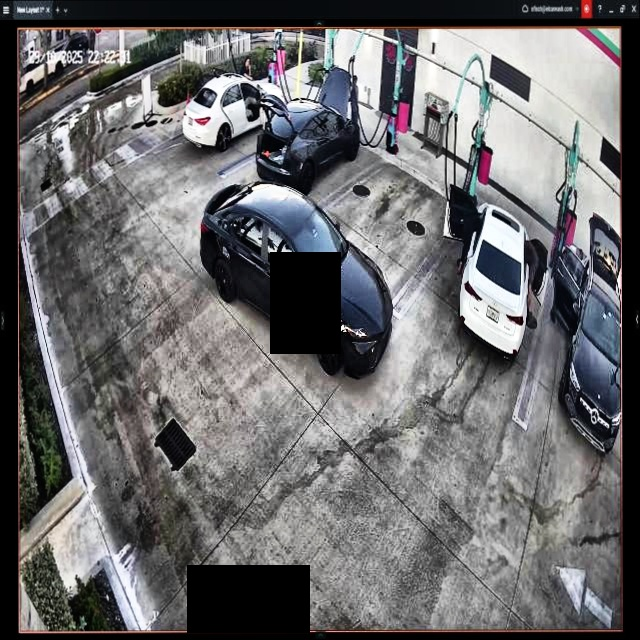Car: (200, 176, 394, 380), (440, 180, 548, 360), (256, 67, 360, 202), (183, 70, 284, 152)
